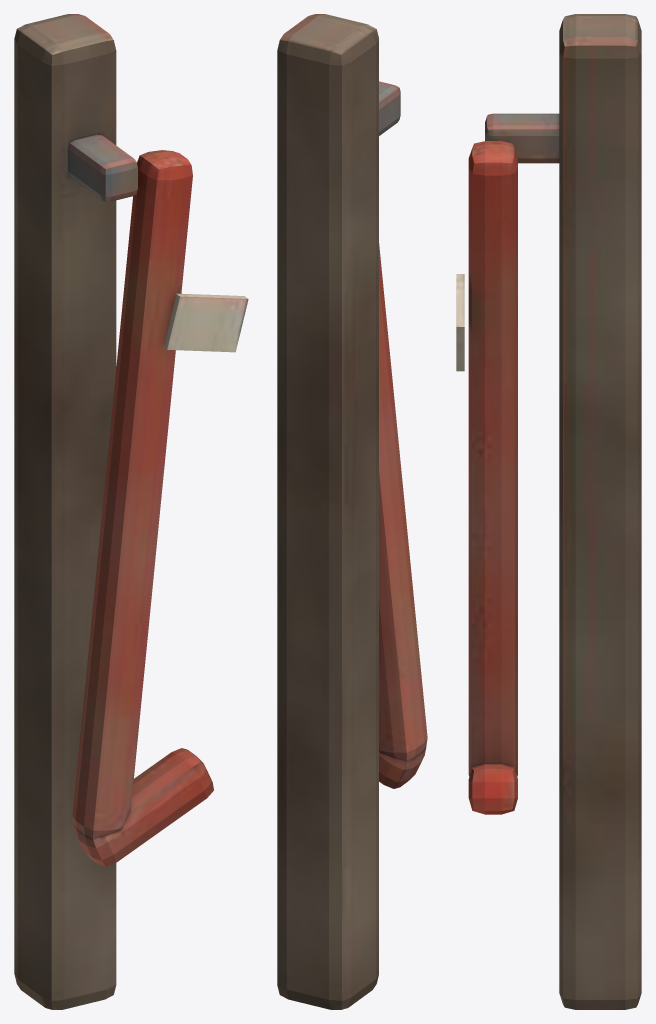
File: equipment_crowbar.glb
The picture shows the model from 3 angles, left to right: view 1: azimuth 30°, elevation 25°; view 2: azimuth 150°, elevation 25°; view 3: azimuth 270°, elevation 25°; orthographic projection.
Parts seen in each view (by area): view 1: CrowbarRack_Mesh; view 2: CrowbarRack_Mesh; view 3: CrowbarRack_Mesh.
Boxes of the visible parts, x1,y1,x2,y2 form: CrowbarRack_Mesh: [14, 14, 248, 1009]; CrowbarRack_Mesh: [277, 14, 427, 1009]; CrowbarRack_Mesh: [456, 14, 641, 1009].
Size of the model in its own units: 0.2121 by 1.3 by 0.225.
1 material, 1 textured.
